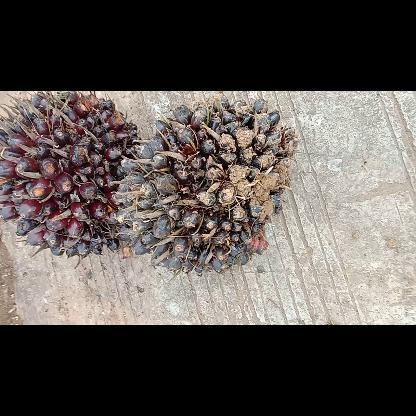TBS mentah: (110, 98, 302, 274), (0, 93, 143, 262)
